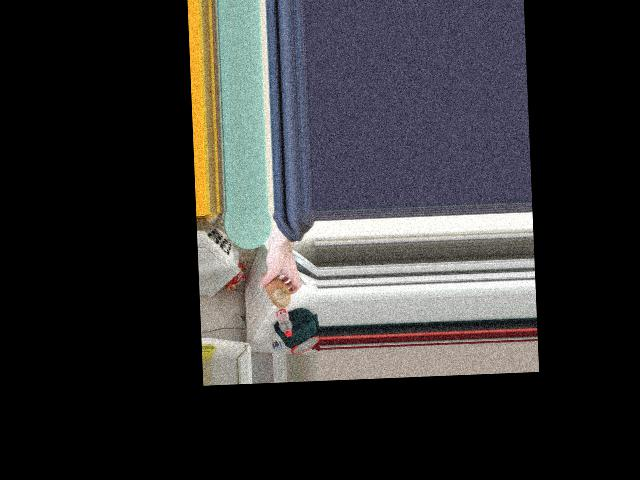sweet_potato: (258, 267, 292, 306)
